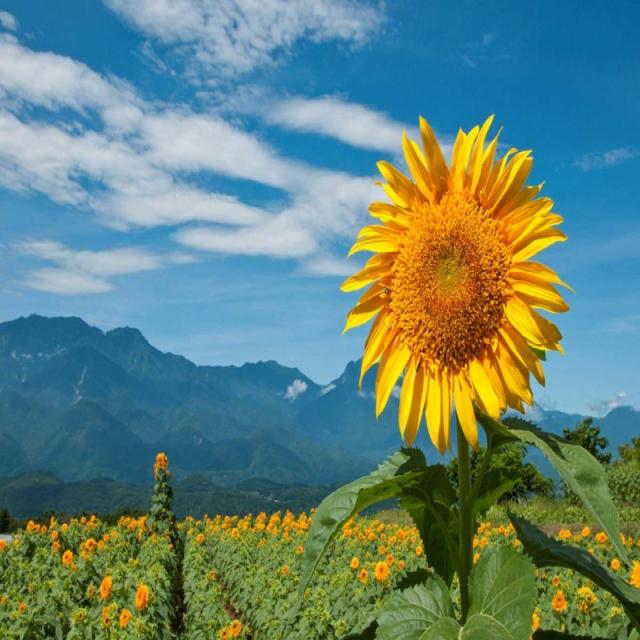sunflower: (334, 107, 581, 458)
